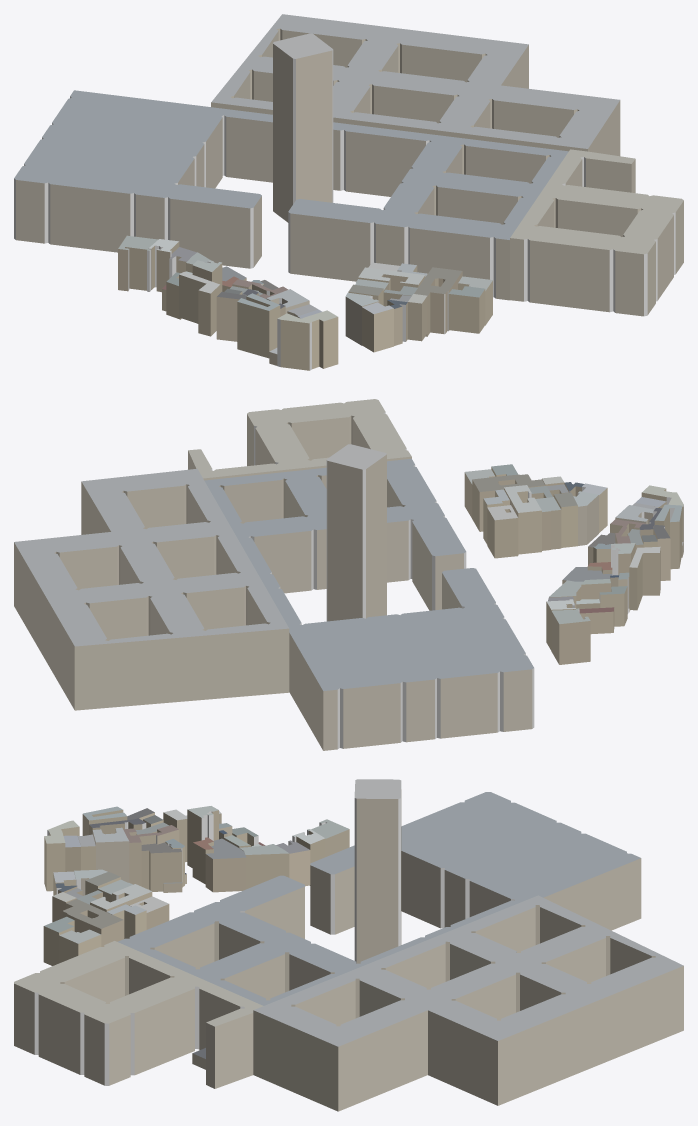
The picture shows the model from 3 angles, top to bottom: view 1: azimuth 30°, elevation 25°; view 2: azimuth 150°, elevation 25°; view 3: azimuth 270°, elevation 25°; orthographic projection.
Visible parts, largest first — view 1: tuile; view 2: tuile; view 3: tuile.
Part boxes in pixels (x1=…): tuile: x1=14, y1=14, x2=683, y2=370; tuile: x1=14, y1=399, x2=683, y2=750; tuile: x1=14, y1=779, x2=683, y2=1111.
Bounding box in the file's own units: 309 × 100 × 337.
